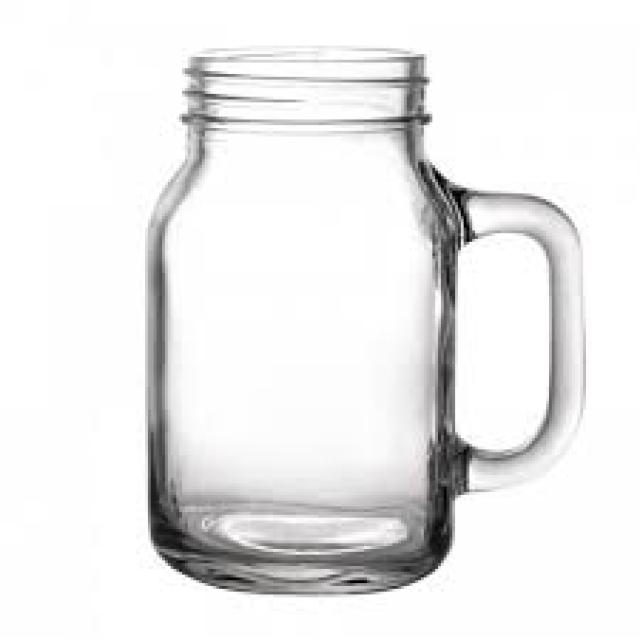glass: (142, 46, 583, 595)
